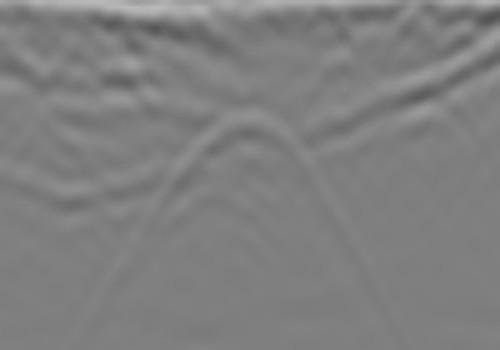hyperbola: (102, 103, 394, 321)
